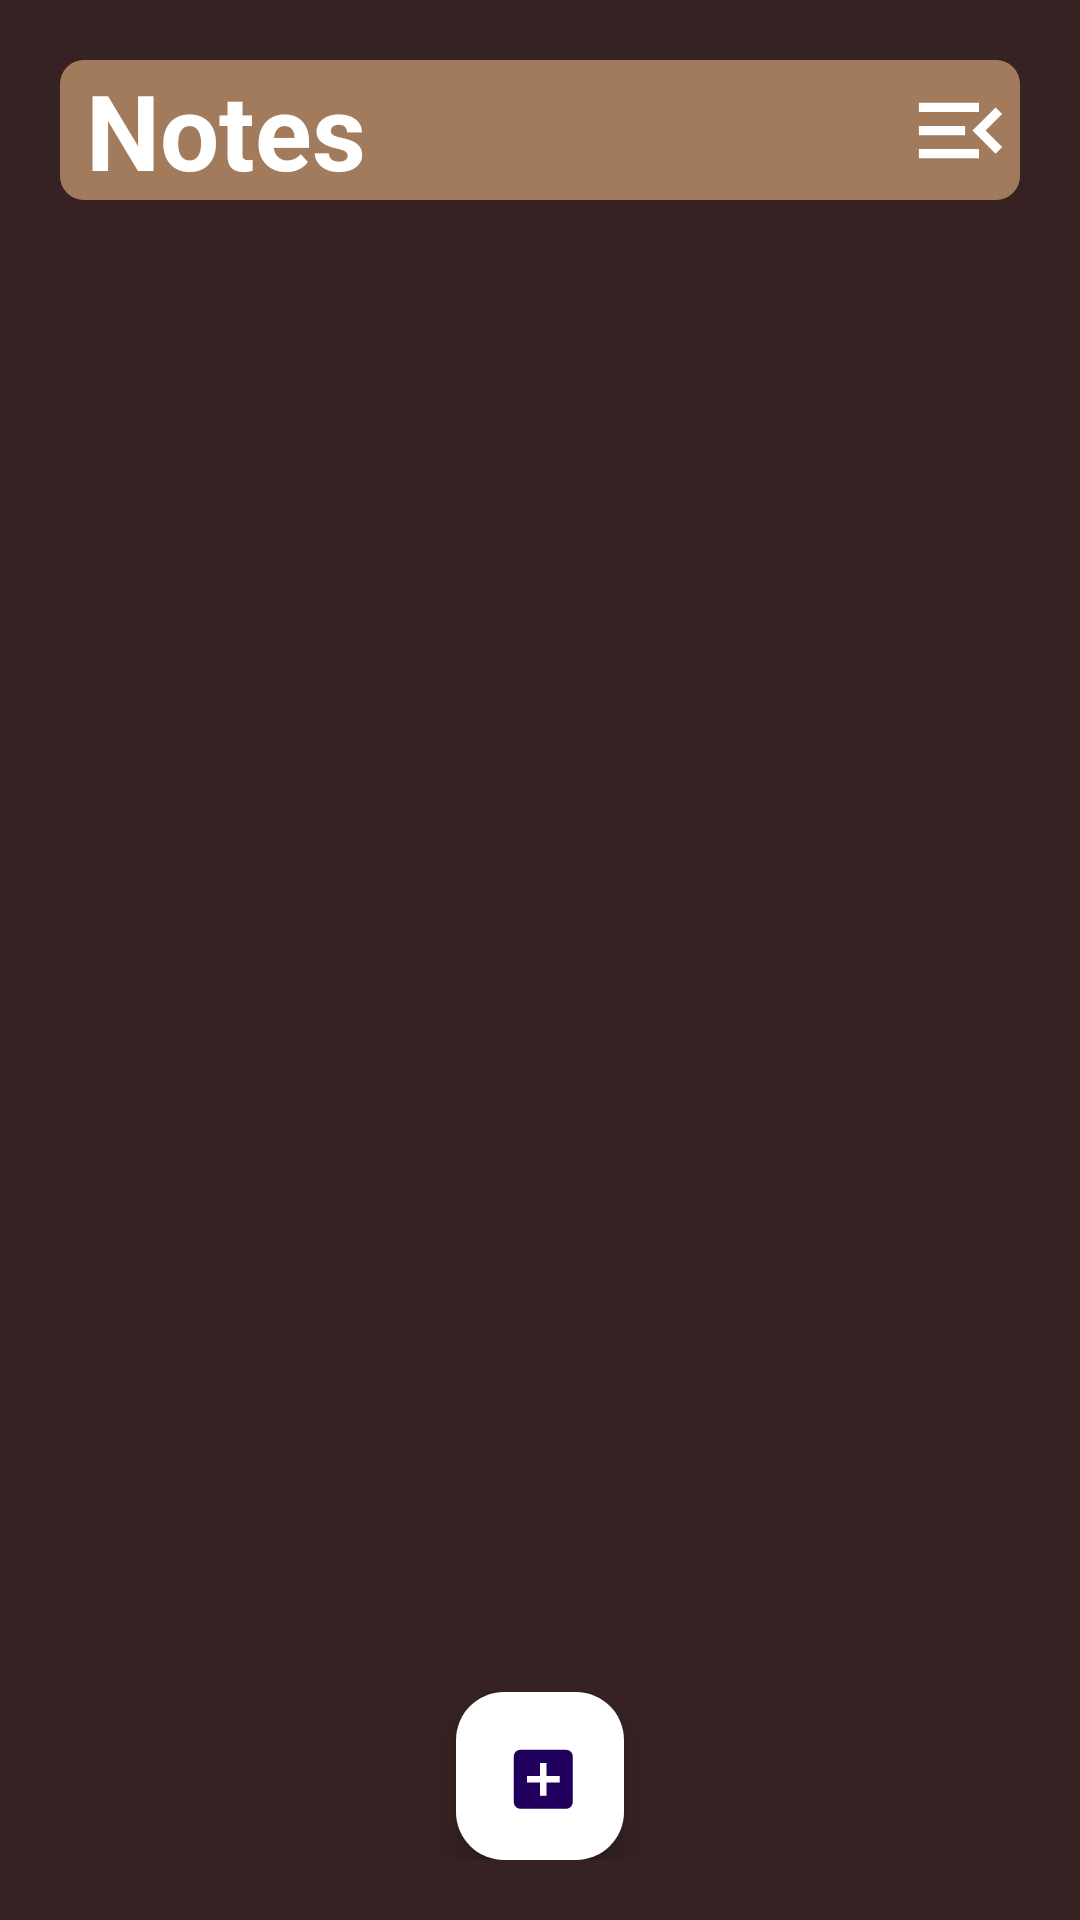

Screen size 1080 x 1920. Icon name, then its center in pixels as [x,y]:
add box: [540,1776]
open: [960,130]
